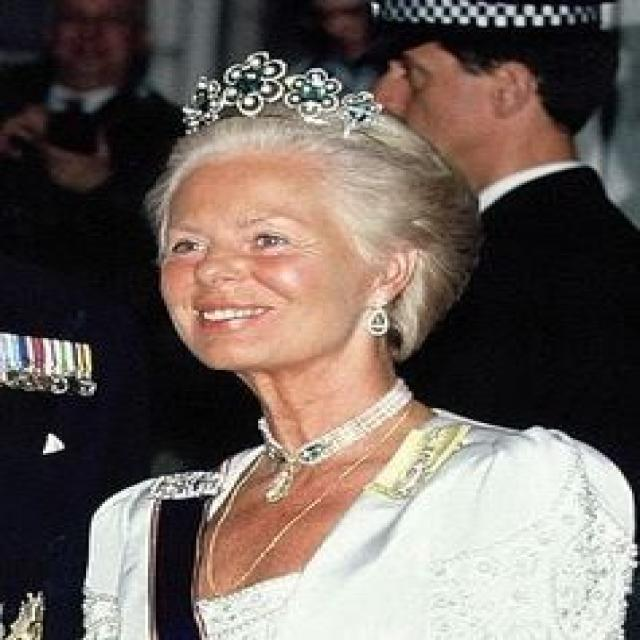Earring: (358, 290, 402, 348)
